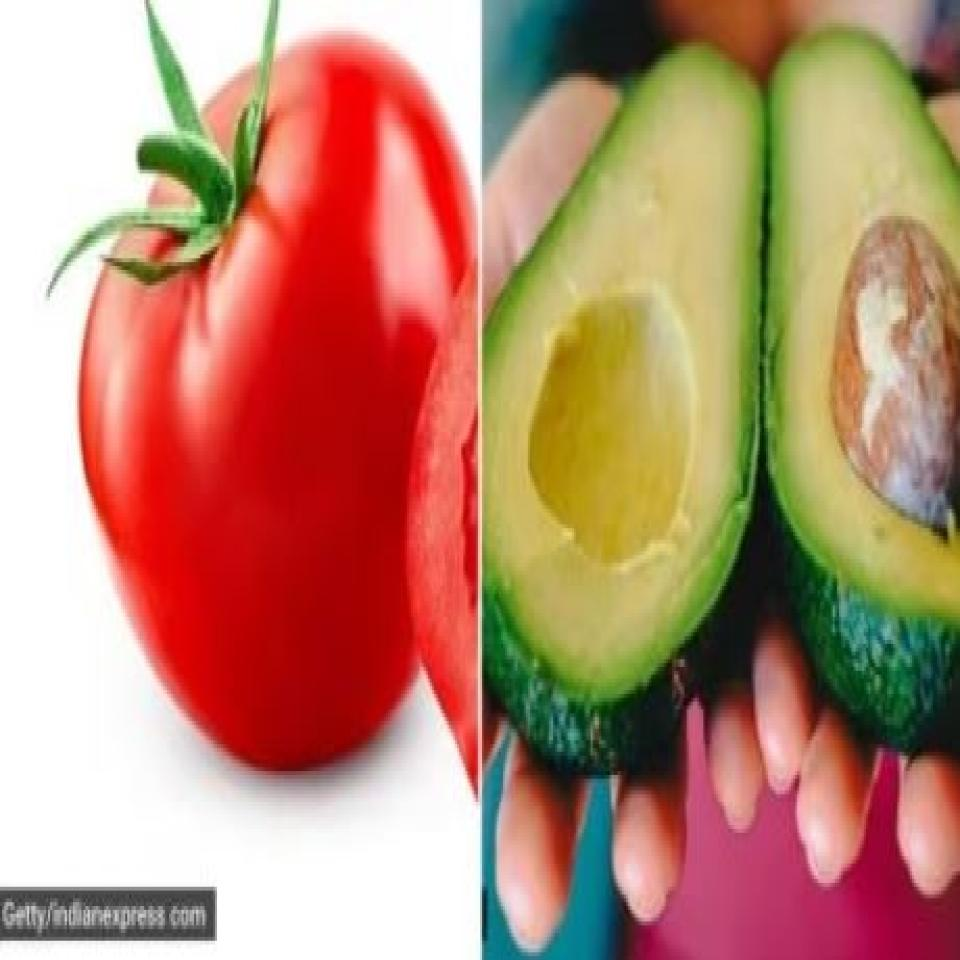Healthy: (95, 33, 464, 778)
